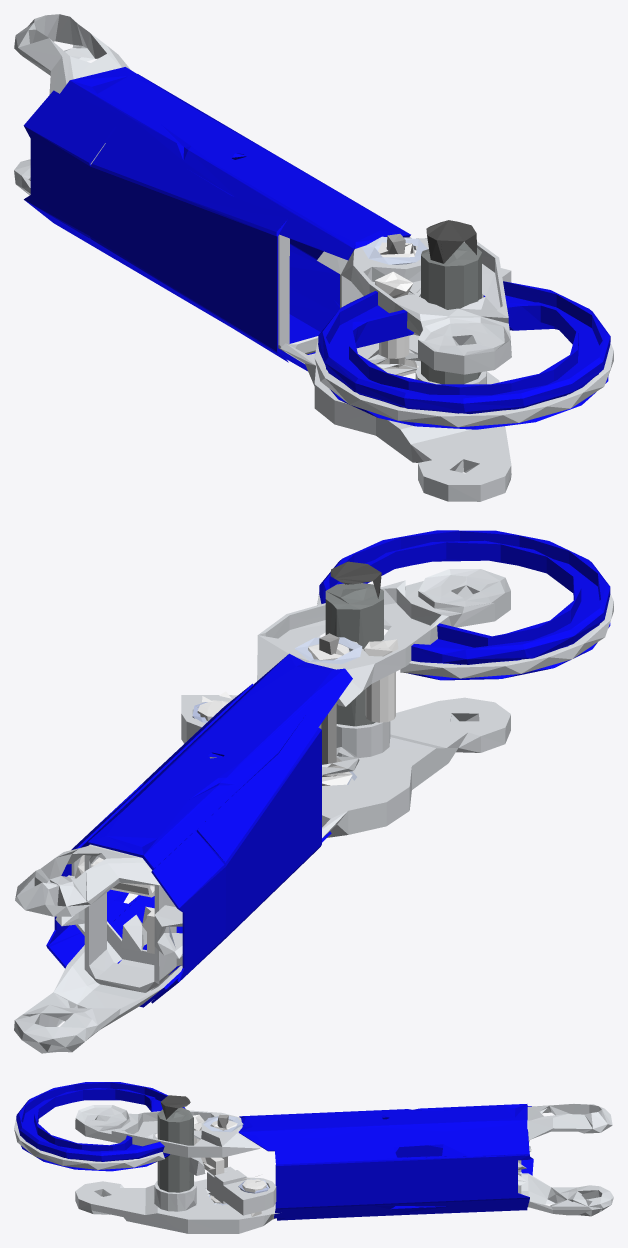
The model's file is LLEG_LINK3_mesh.dae.
3 views of the same model, one above another, from view 1: azimuth 30°, elevation 25°; view 2: azimuth 150°, elevation 25°; view 3: azimuth 270°, elevation 25° (orthographic). The views are drawn at different scales.
Parts seen in each view (by area): view 1: LLEG_LINK3 (×13); view 2: LLEG_LINK3 (×19); view 3: LLEG_LINK3 (×16).
Boxes of the visible parts, bbox=[...] form: LLEG_LINK3 (×13): bbox=[14, 14, 613, 501]; LLEG_LINK3 (×19): bbox=[14, 530, 613, 1053]; LLEG_LINK3 (×16): bbox=[14, 1082, 613, 1233].
Size of the model in its own units: 0.1659 by 0.1126 by 0.4932.
